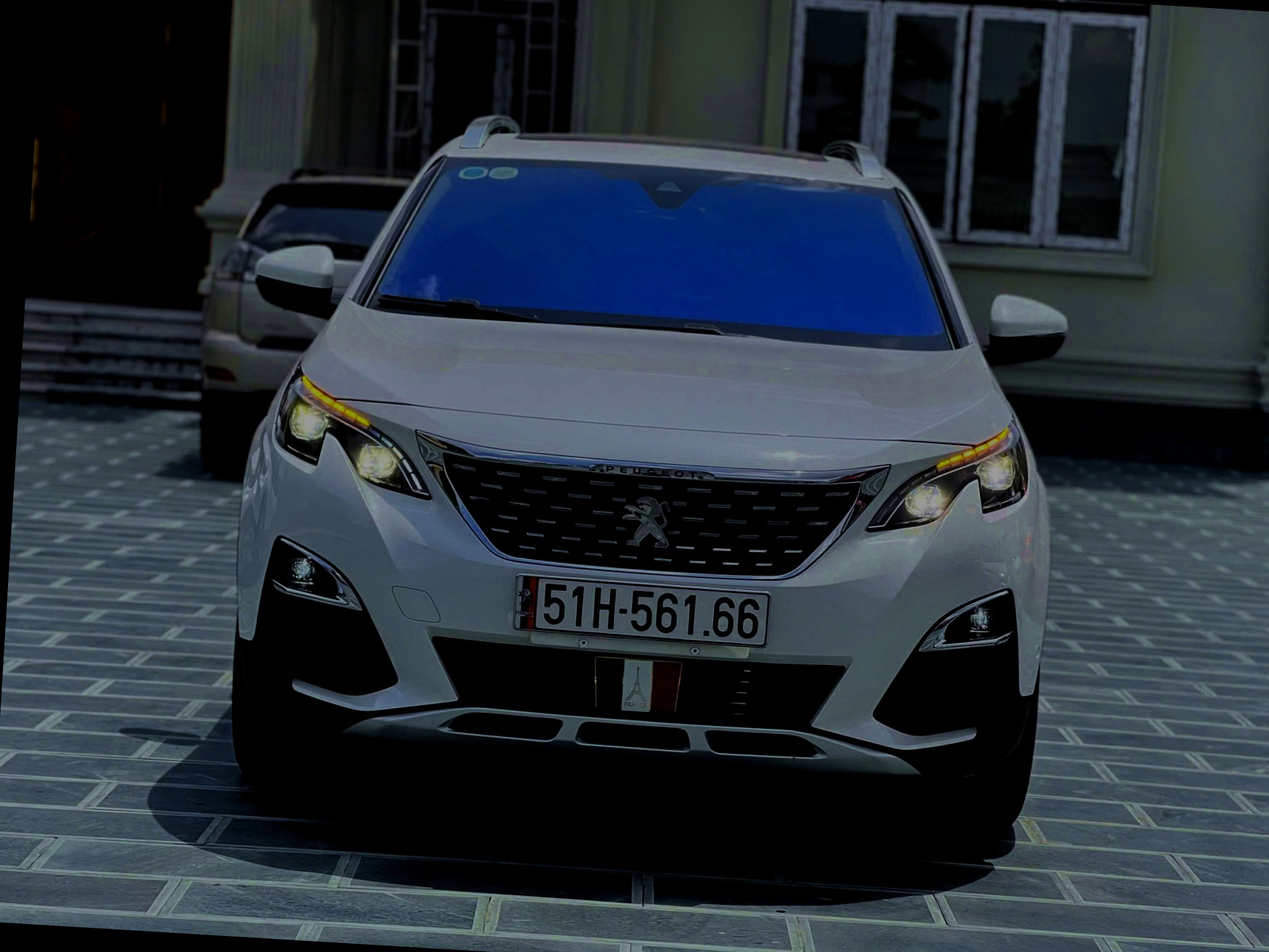Bien-so: (529, 576, 776, 659)
